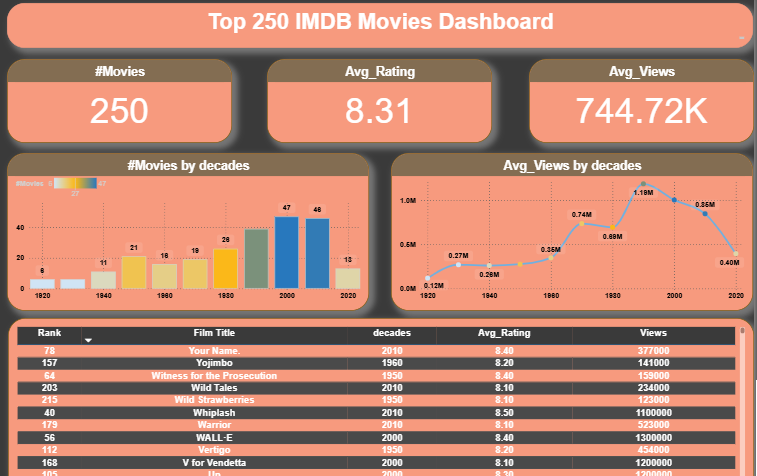

Layout of this report page (visuals, bound fields, positions):
{"tool":"powerbi","page":{"name":"Page 1","canvas":[1280,860],"ordinal":0},"visuals":[{"type":"card","title":"#Movies","fields":{"Values":["Measures (3).#Movies"]},"box":[15.2,110,380.9,142.2],"z":0},{"type":"card","title":"Avg_Rating","fields":{"Values":["Measures (3).Avg_Rating"]},"box":[455.4,110,380.9,142.2],"z":1000},{"type":"card","title":"Avg_Views","fields":{"Values":["Measures (3).Avg_Views"]},"box":[898.9,110,380.9,142.2],"z":2000},{"type":"clusteredColumnChart","fields":{"Y":["Measures (3).#Movies"],"Category":["Top 250 Movies.decades"]},"box":[15.2,269.2,612.8,267.5],"z":3000},{"type":"lineChart","fields":{"Y":["Measures (3).Avg_Views"],"Category":["Top 250 Movies.decades"]},"box":[665.3,269.2,612.8,267.5],"z":4000},{"type":"textbox","title":"Top 250 IMDB Movies Dashboard","box":[15.2,15.2,1262.9,76.2],"z":5000},{"type":"tableEx","fields":{"Values":["Top 250 Movies.Rank","Top 250 Movies.Film Title","Top 250 Movies.decades","Measures (3).Avg_Rating","Top 250 Movies.Views"]},"box":[16.9,548.5,1262.9,311.5],"z":6000}]}

Visuals, with their boxes on the page's 1280x860 design canvas (x1, y1, x2, y2). These are canvas units, not pixel positions in the 757x476 screenshot, which may show the page scaled, cropped or inside an application window:
"#Movies" card: box=[15, 110, 396, 252]
"Avg_Rating" card: box=[455, 110, 836, 252]
"Avg_Views" card: box=[899, 110, 1280, 252]
clusteredColumnChart - Measures (3).#Movies x Top 250 Movies.decades: box=[15, 269, 628, 537]
lineChart - Measures (3).Avg_Views x Top 250 Movies.decades: box=[665, 269, 1278, 537]
"Top 250 IMDB Movies Dashboard" textbox: box=[15, 15, 1278, 91]
tableEx - Top 250 Movies.Rank x Top 250 Movies.Film Title: box=[17, 548, 1280, 860]
